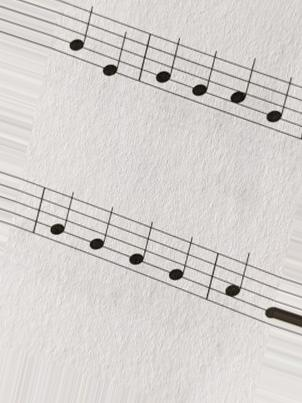note: (258, 72, 296, 141), (58, 2, 97, 67), (162, 227, 196, 301), (216, 250, 252, 319), (224, 61, 260, 126), (42, 185, 78, 249), (83, 202, 119, 266), (98, 13, 130, 85), (149, 33, 183, 98), (189, 48, 222, 112), (124, 215, 156, 281)
